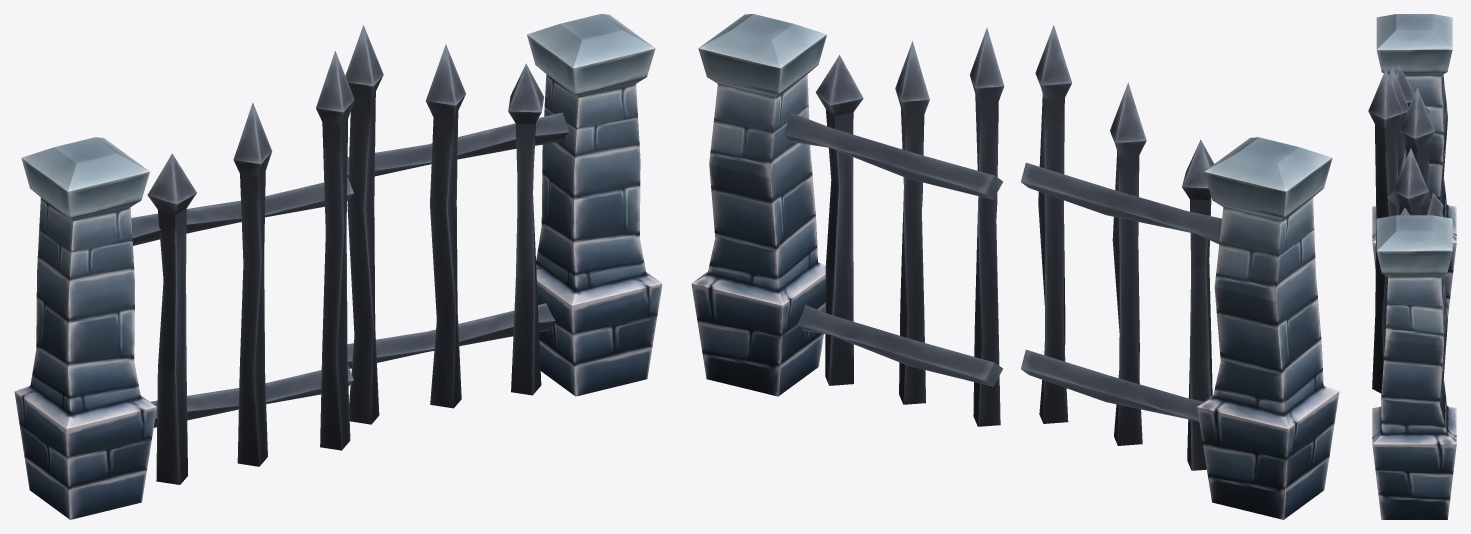
File: Vampire_Village_Props_12.FBX
3 renders of one model, left to right at view 1: azimuth 30°, elevation 25°; view 2: azimuth 150°, elevation 25°; view 3: azimuth 270°, elevation 25°, orthographic. The views are drawn at different scales.
Parts seen in each view (by area): view 1: Vampire_Village_Props_12; view 2: Vampire_Village_Props_12; view 3: Vampire_Village_Props_12.
Boxes of the visible parts, bbox=[...] form: Vampire_Village_Props_12: bbox=[14, 14, 662, 519]; Vampire_Village_Props_12: bbox=[691, 14, 1339, 519]; Vampire_Village_Props_12: bbox=[1368, 14, 1456, 519].
Size of the model in its own units: 326 by 210 by 51.4.
